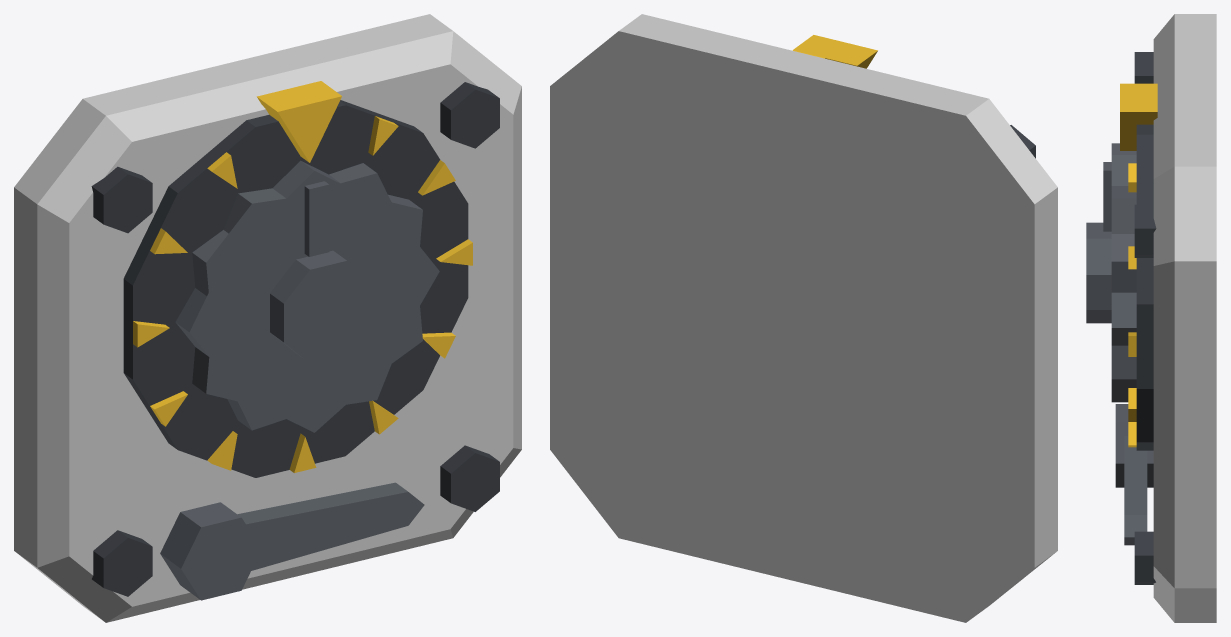
Rendered from LCK_T3.fbx.
3 renders of one model, left to right at view 1: azimuth 30°, elevation 25°; view 2: azimuth 150°, elevation 25°; view 3: azimuth 270°, elevation 25°, orthographic. The views are drawn at different scales.
Visible parts, largest first — view 1: Tint, Bezel, Dial, Lever, Index; view 2: Tint, Index; view 3: Tint, Dial, Bezel, Lever, Index.
Part boxes in pixels (<box>): Tint: <box>14,14,521,622</box>; Bezel: <box>91,82,499,596</box>; Dial: <box>175,160,439,432</box>; Lever: <box>160,482,424,600</box>; Index: <box>133,81,472,472</box>; Tint: <box>550,14,1057,622</box>; Index: <box>793,35,877,68</box>; Tint: <box>1153,14,1216,622</box>; Dial: <box>1086,143,1136,402</box>; Bezel: <box>1134,52,1156,584</box>; Lever: <box>1115,404,1153,545</box>; Index: <box>1120,83,1157,447</box>.
Bounding box in the file's own units: 2.4 × 2.4 × 0.62.
